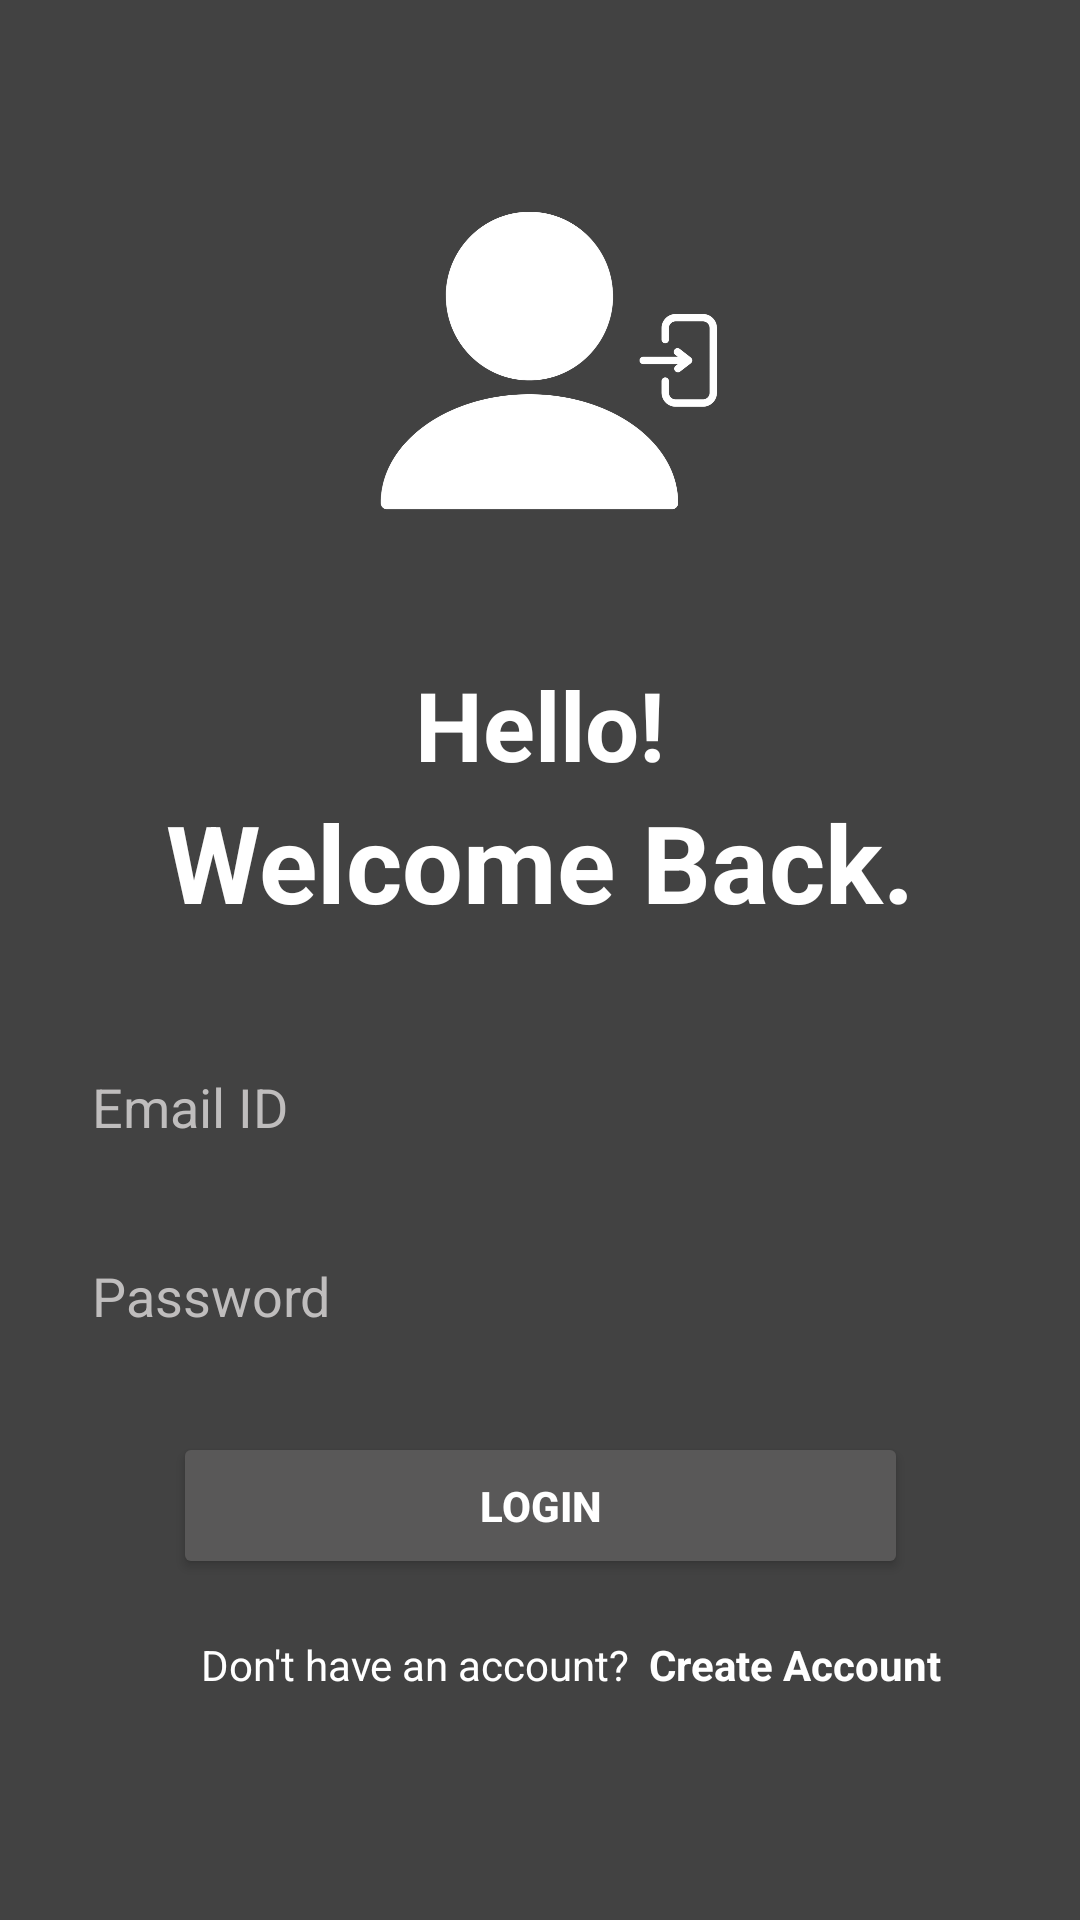

Icon bounding boxes for this 1080 x 1920 phone screenshot, format (x1, y1, x2, y2):
login: (380, 212, 717, 509)
